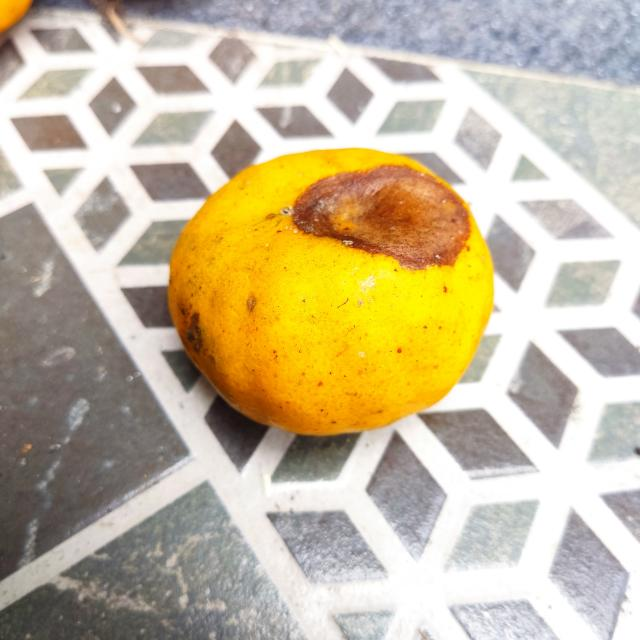orange: (164, 146, 496, 434)
